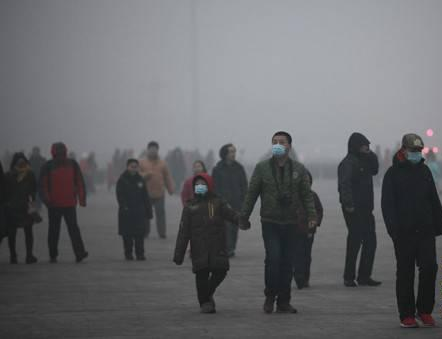person: (236, 130, 316, 313), (380, 132, 441, 325), (171, 171, 250, 312), (336, 130, 382, 287), (39, 139, 88, 265), (283, 166, 325, 291), (208, 142, 248, 261), (2, 150, 40, 264), (134, 140, 175, 240), (115, 157, 152, 260), (178, 160, 213, 247)
